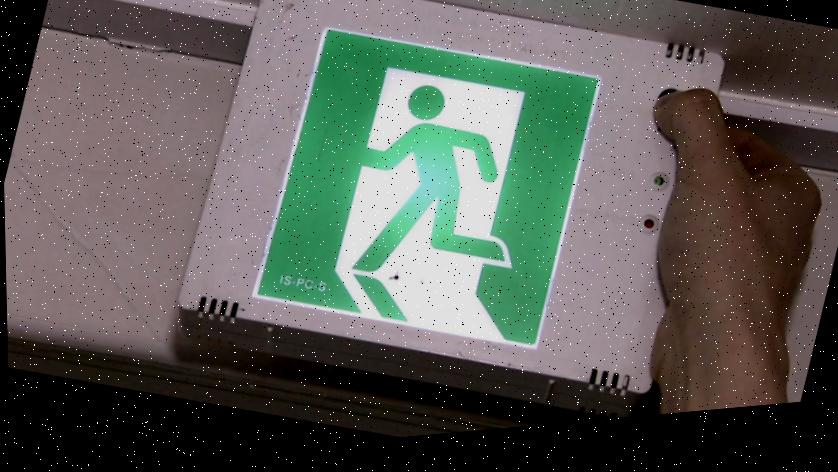emergency_exit: (173, 5, 725, 413), (250, 26, 603, 351)
